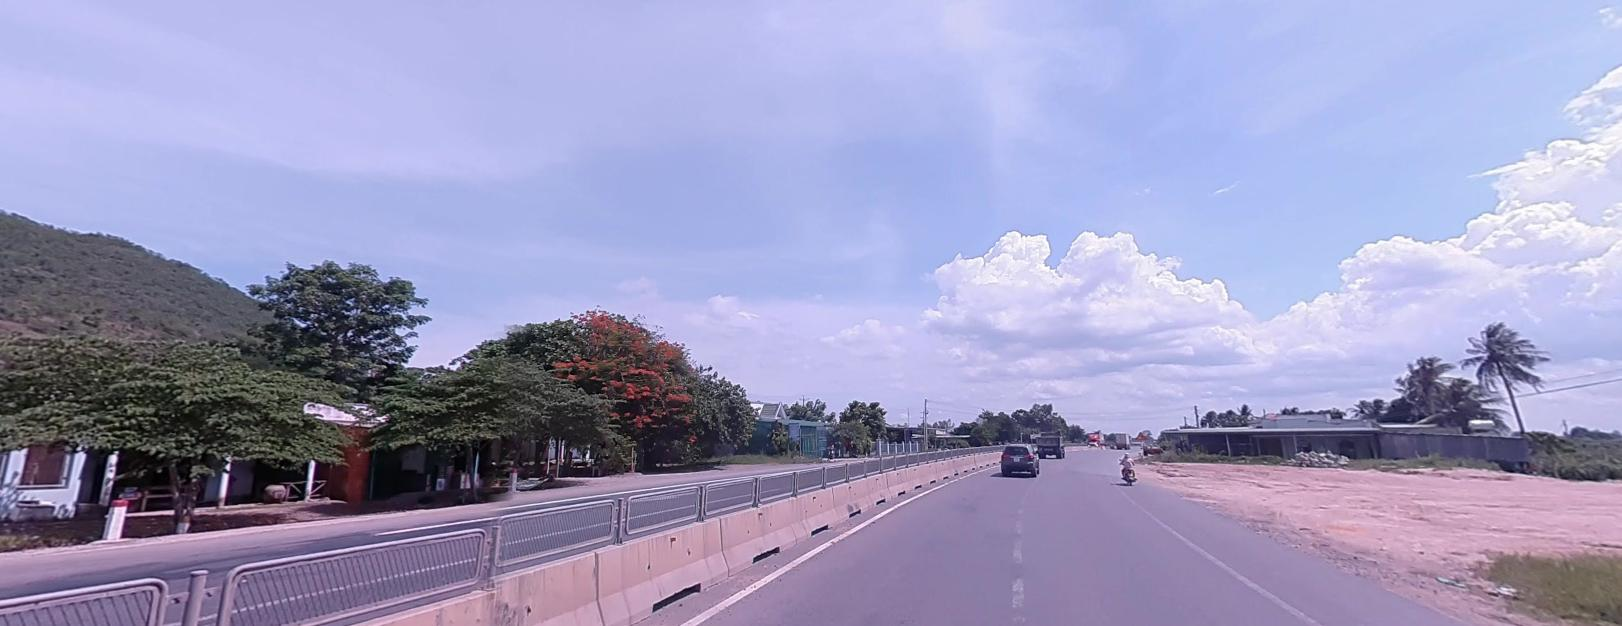Nguy hiem: (1135, 430, 1147, 439)
